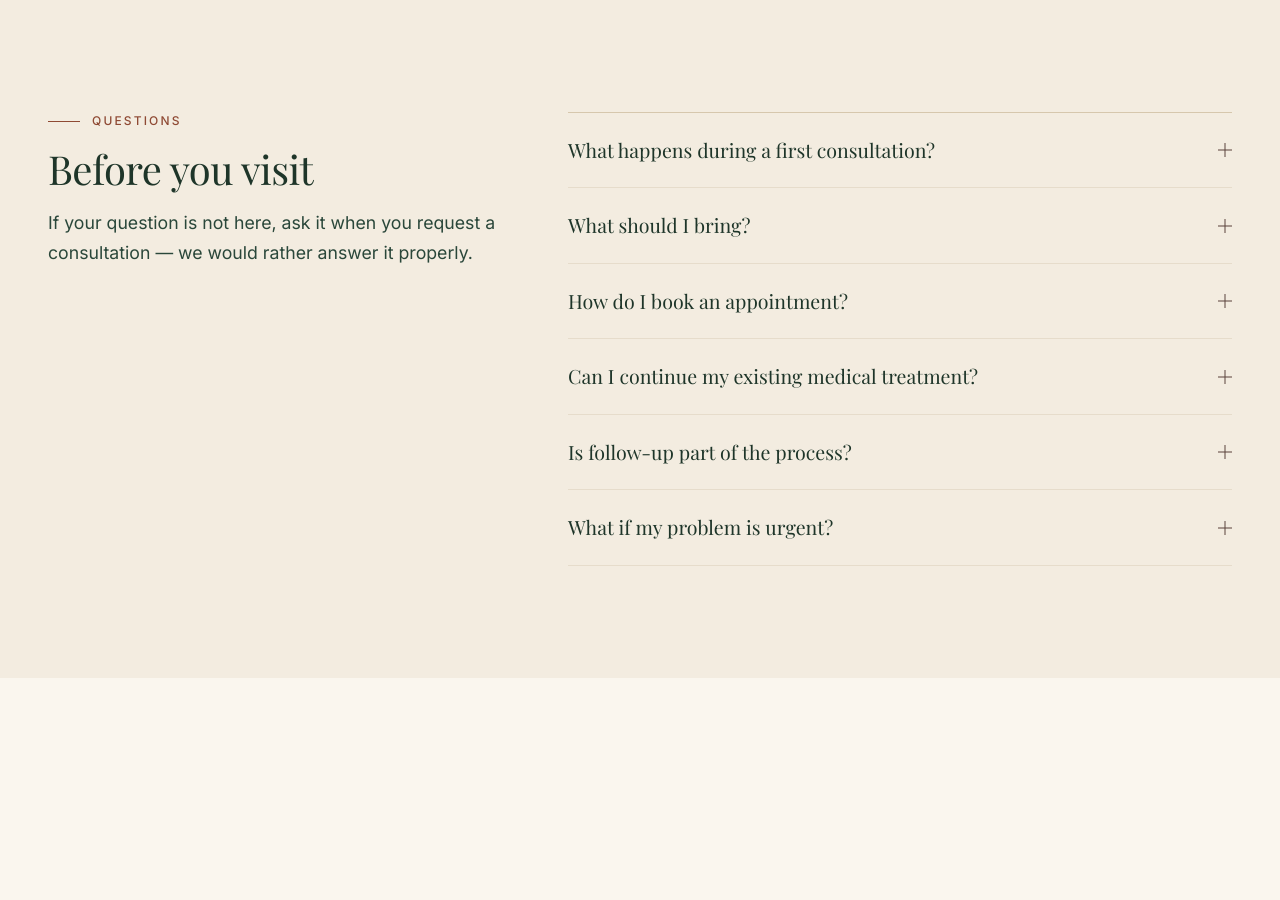
it: FaqSection › shows one answer at a time, so the page does not jump
The image size is (1280, 900).
Click the button "What happens during a first consultation?".
click(900, 150)  # box left=568, top=113, right=1232, bottom=188
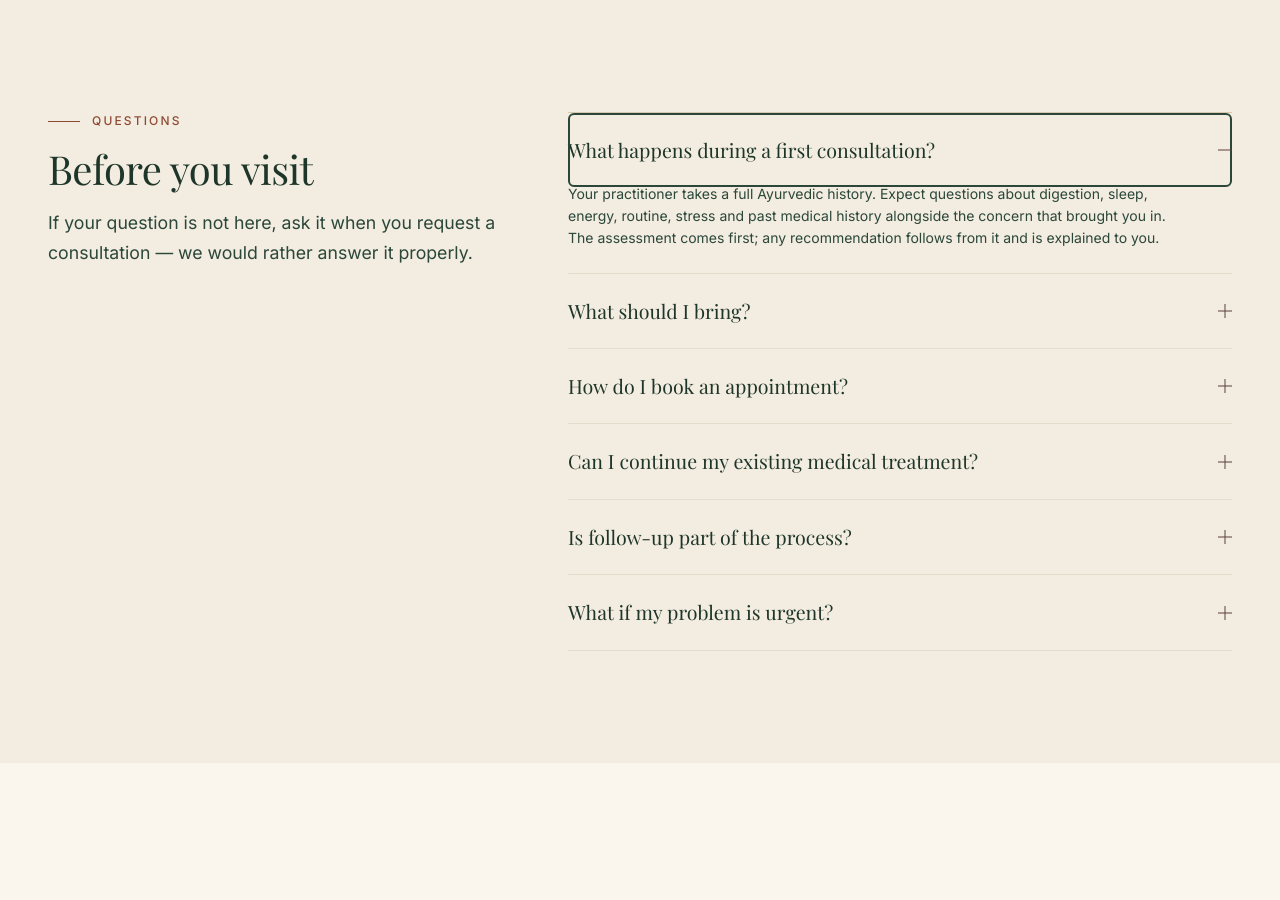
Check: the button "What happens during a first consultation?" is expanded, box left=568, top=113, right=1232, bottom=188
Click the button "What should I bring?".
click(659, 311)  # box left=568, top=274, right=1232, bottom=348
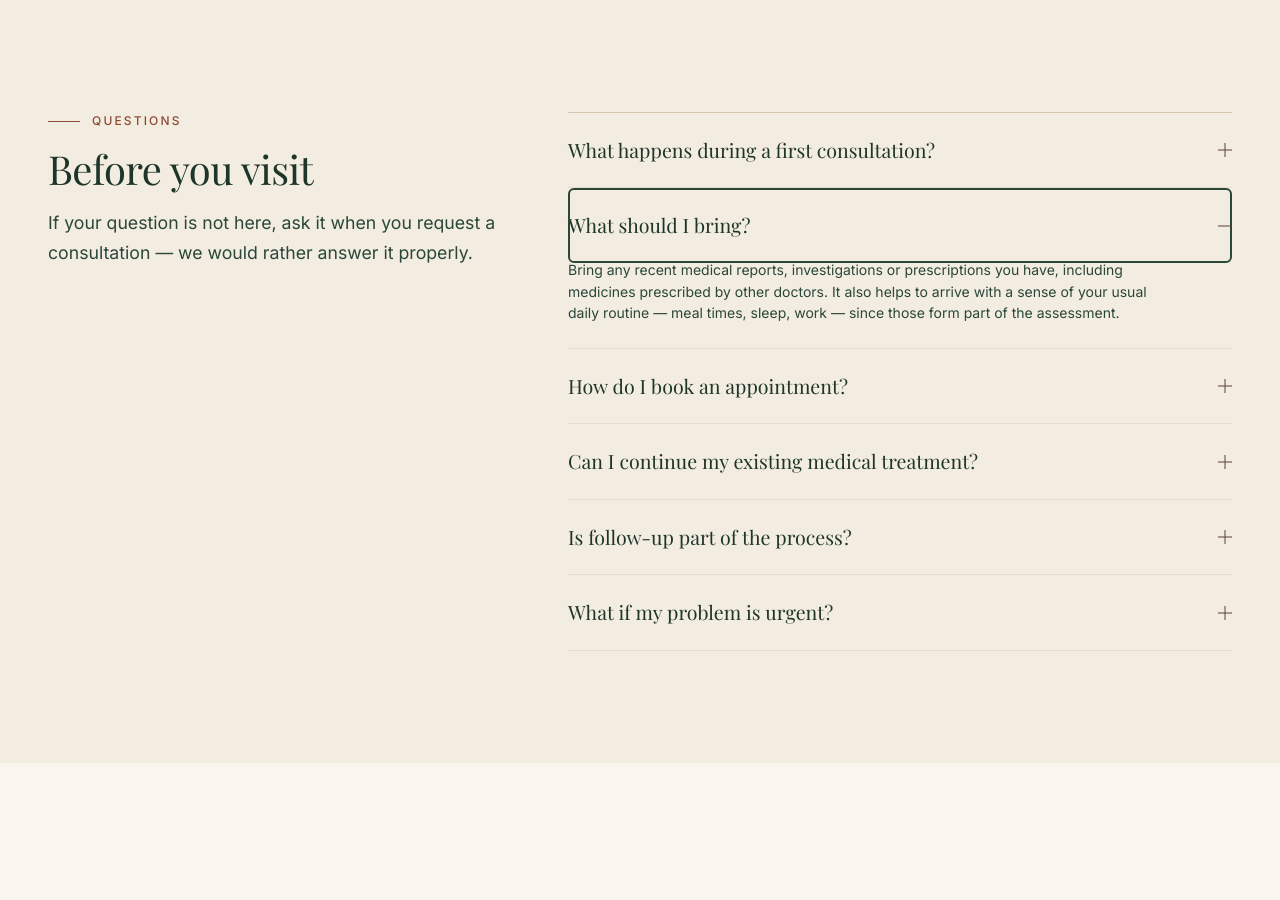
Check: the button "What should I bring?" is expanded, box left=568, top=188, right=1232, bottom=263
Check: the button "What happens during a first consultation?" is collapsed, box left=568, top=113, right=1232, bottom=188
